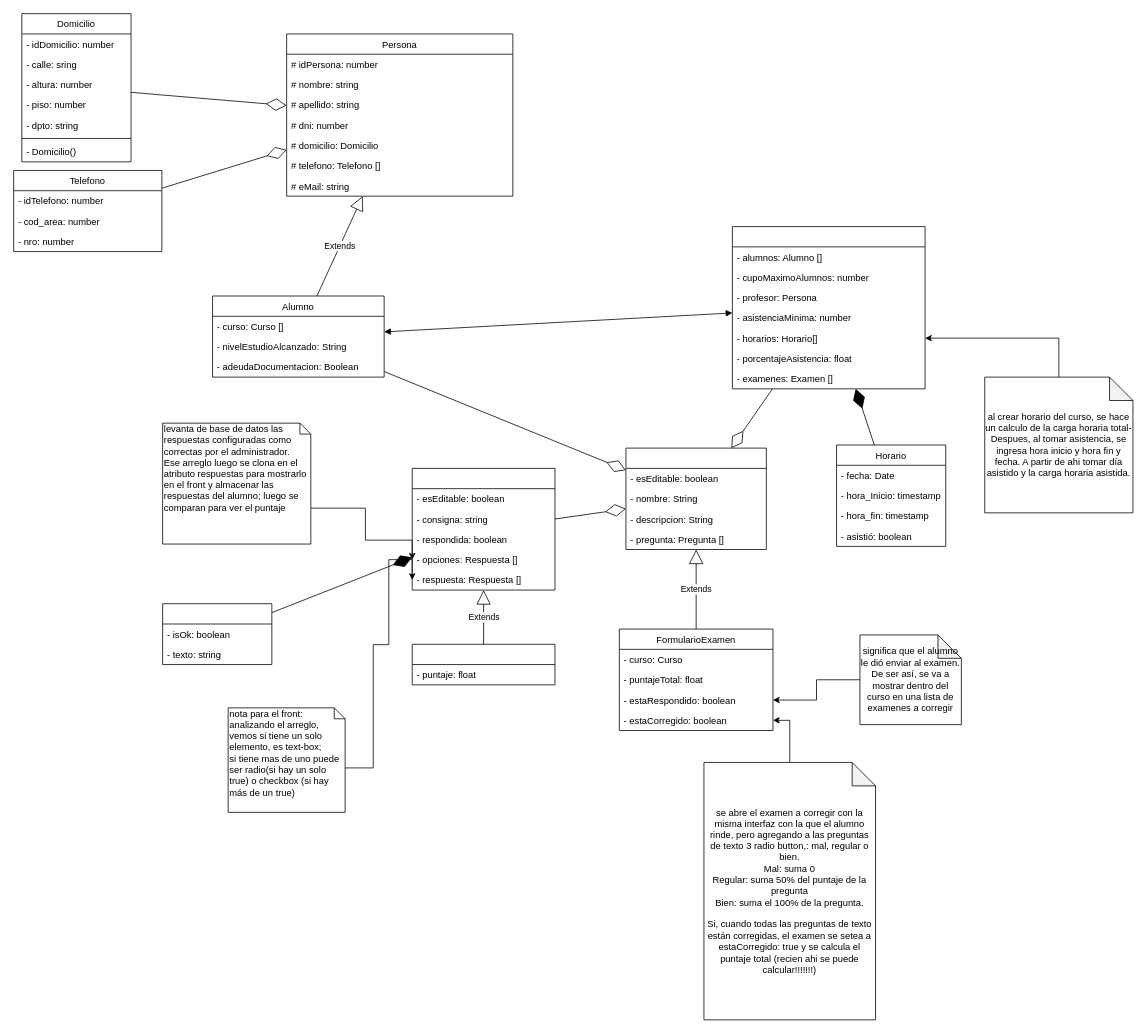
Image size: 1147x1034. Some labels were removed from this diagram. The box of each missing label's shape, as (x1, y1, x2, y2) in pixels:
Curso: (732, 226, 925, 389)
Formulario: (625, 447, 766, 550)
Pregunta: (411, 468, 555, 590)
PreguntaExamen: (411, 644, 555, 685)
Respuesta: (162, 603, 272, 665)
